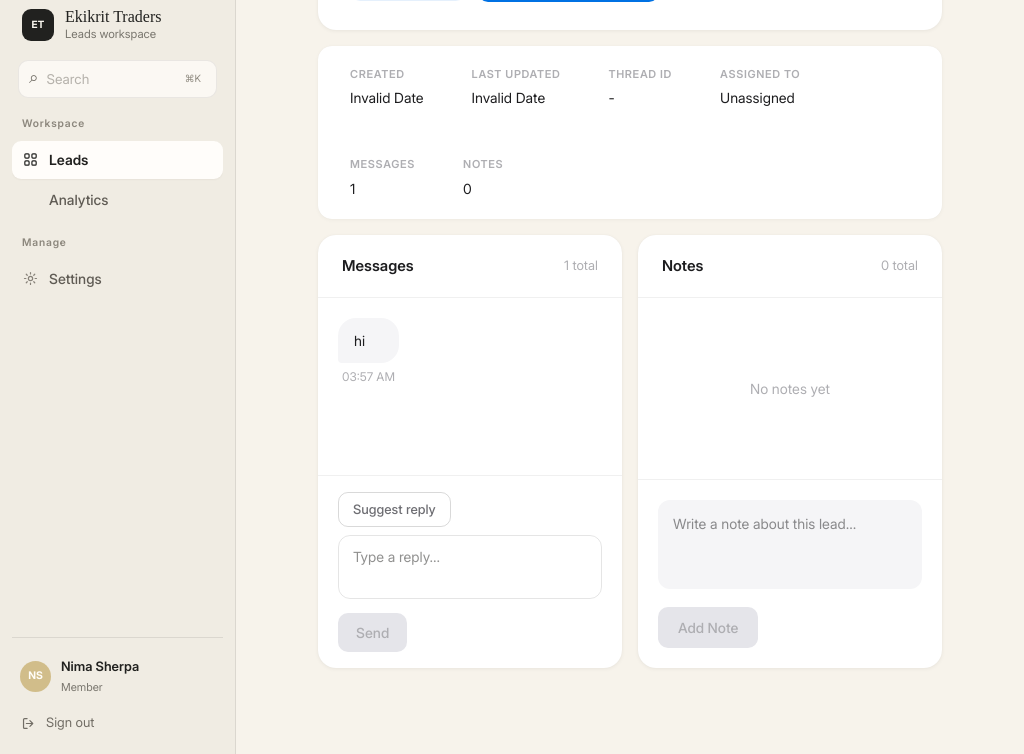
Test: LeadDetailPage — reply composer › shows the server error message and keeps the draft when sending fails
(page scrolled)
Check: the text "Messages" below "Created" is shown, box 350,157 -> 415,171
In the text box with placeholder "Type a reply...": {"x": 470, "y": 567} 338,535 -> 602,599, type "hello there"
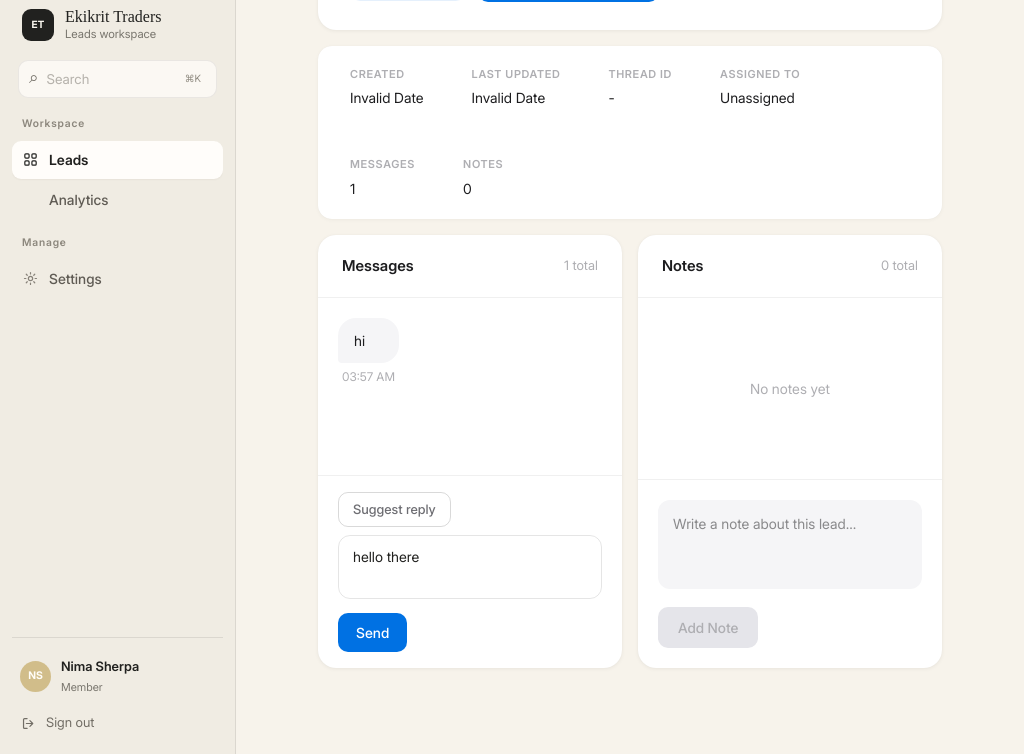
Click the button "Send": {"x": 373, "y": 632} 338,613 -> 407,652
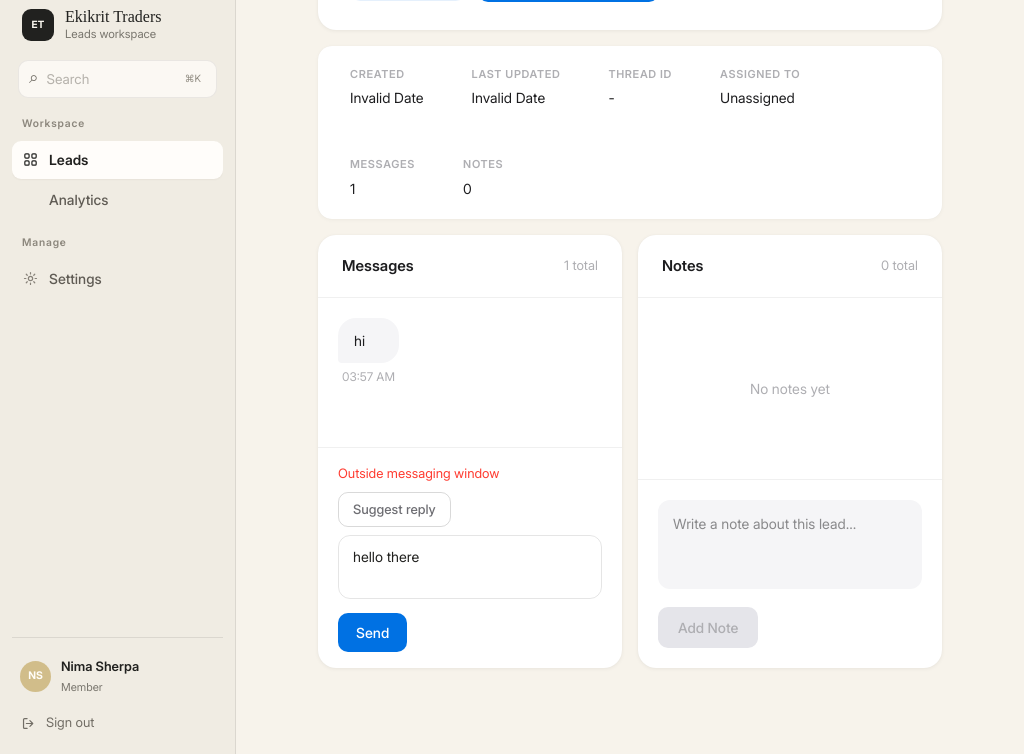
Check: the text "Outside messaging window" is shown, box 338,465 -> 500,481
